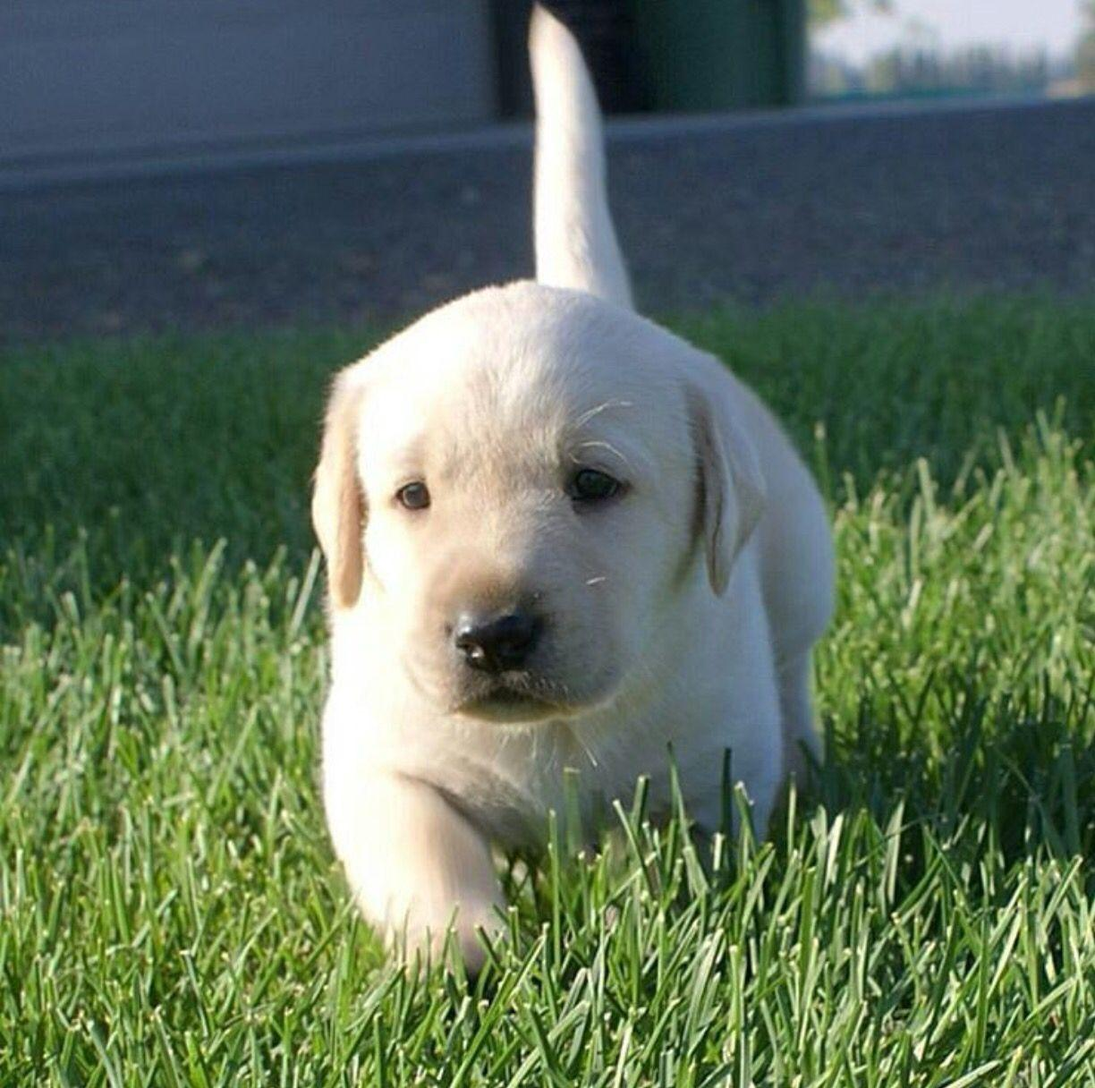puppy-dog: (314, 7, 838, 990)
